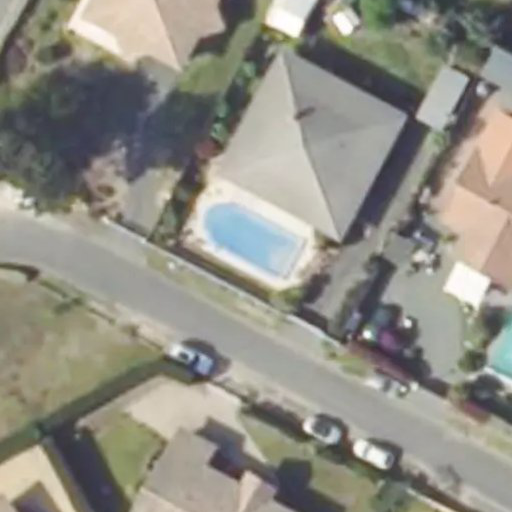pool: (197, 234, 307, 242)
